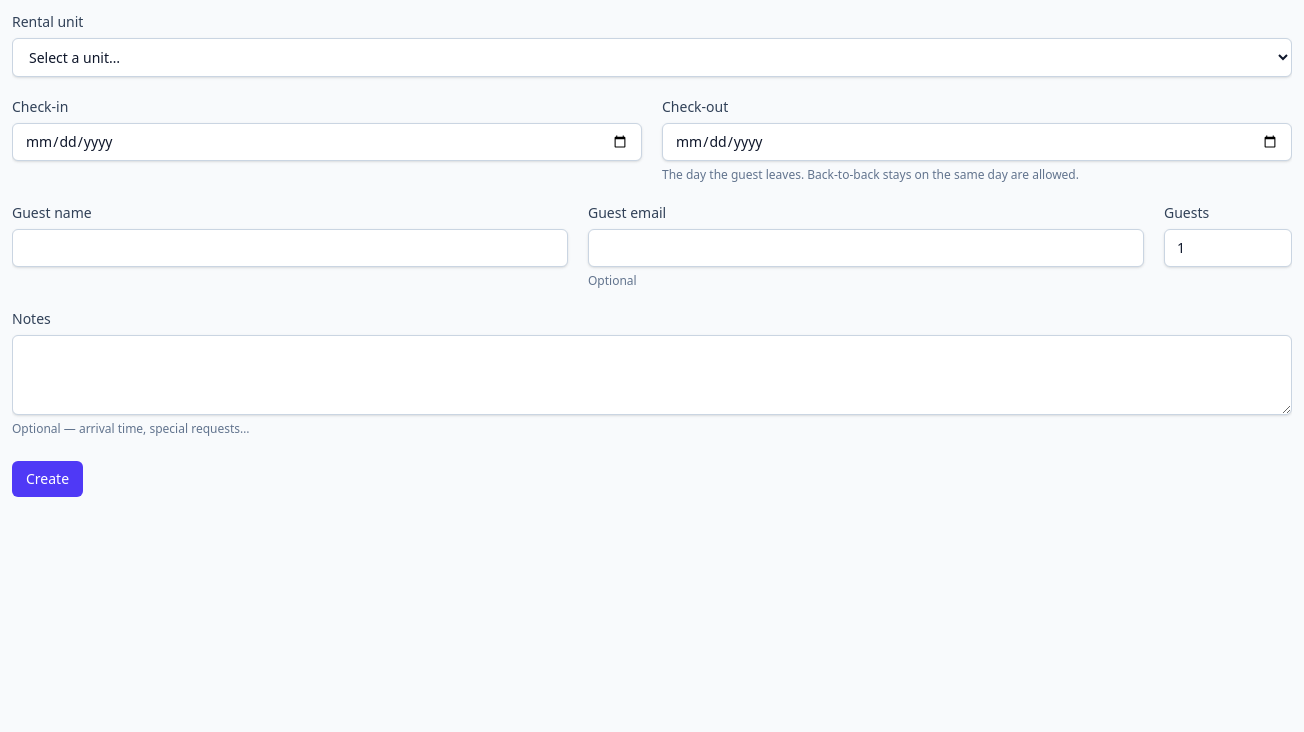
Scenario: ReservationForm › rejects a check-out that is not after check-in
The image size is (1304, 732).
Select "Sunny loft — Stockholm" in the dropdown labelled "Rental unit" at (652, 58), box [12,38,1292,77]
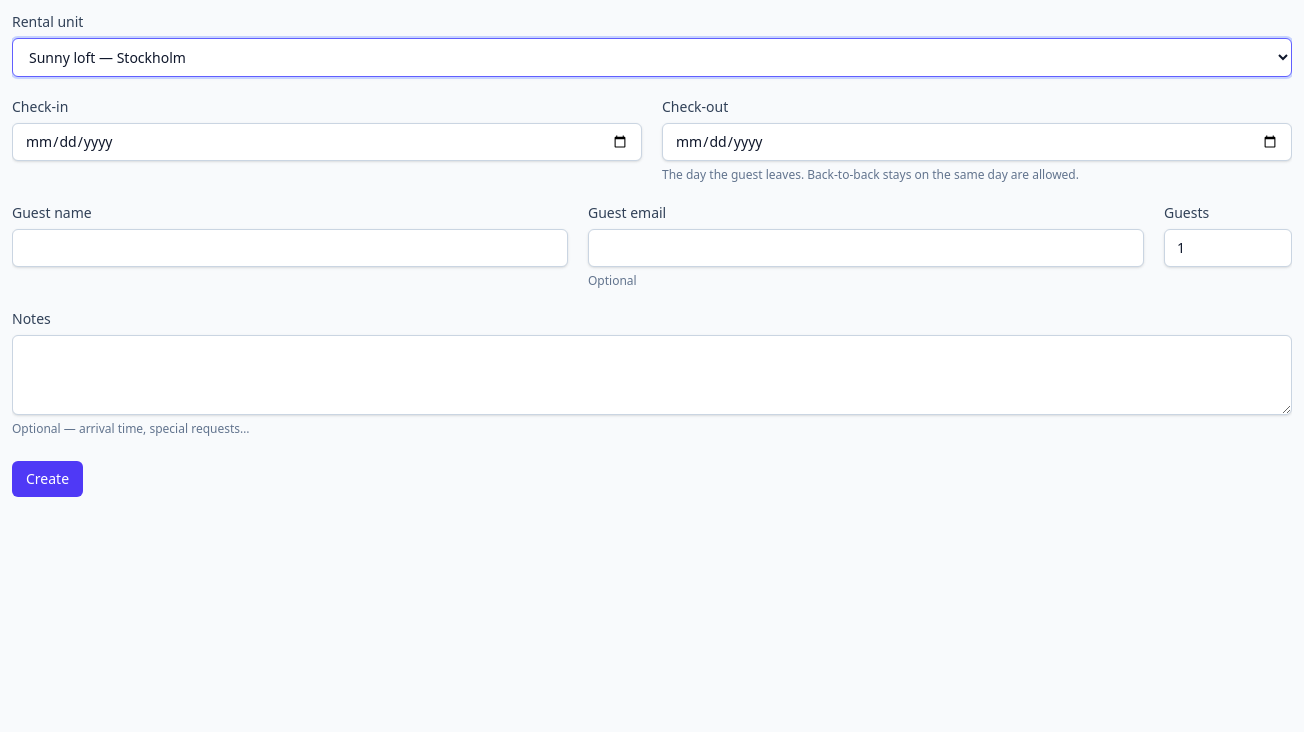
Type "2024-07-01" into the date field labelled "Check-in".
click(327, 142); type("2024-07-01")  # box [12,123,642,161]
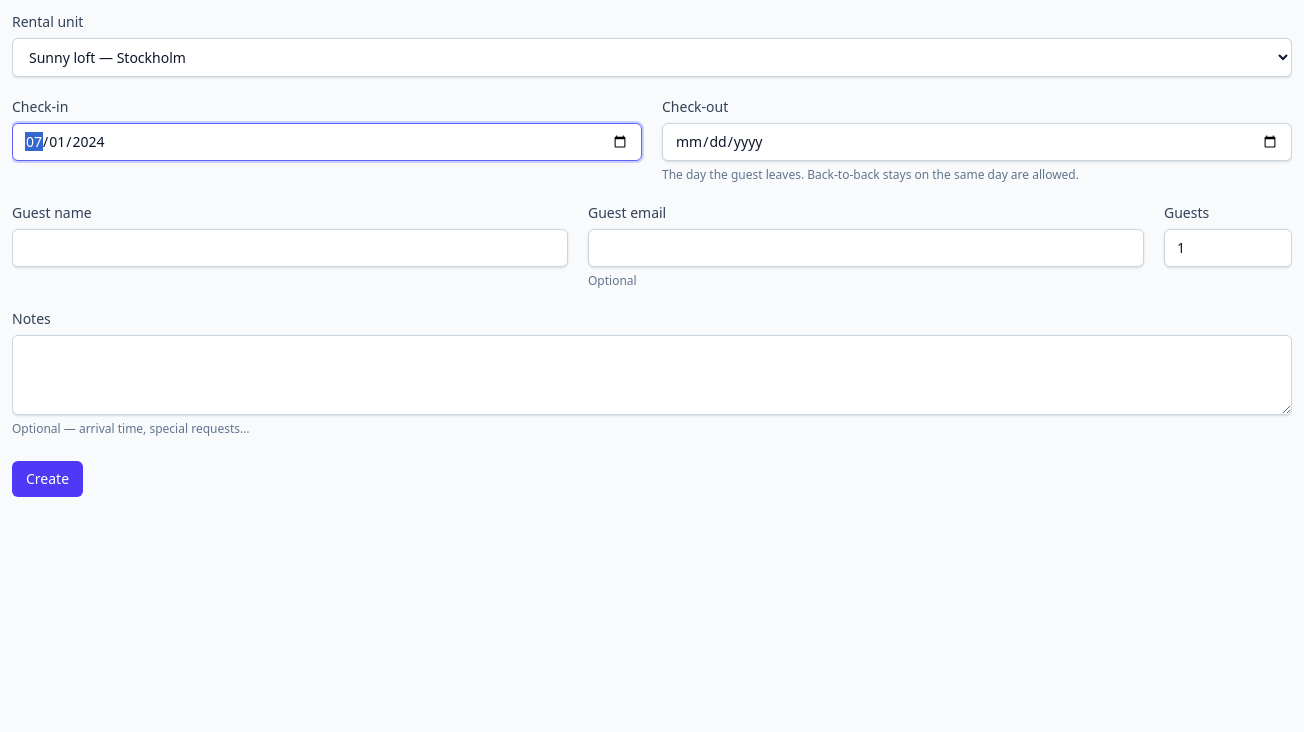
Type "2024-07-05" into the date field labelled "Check-out".
click(977, 142); type("2024-07-05")  # box [662,123,1292,161]
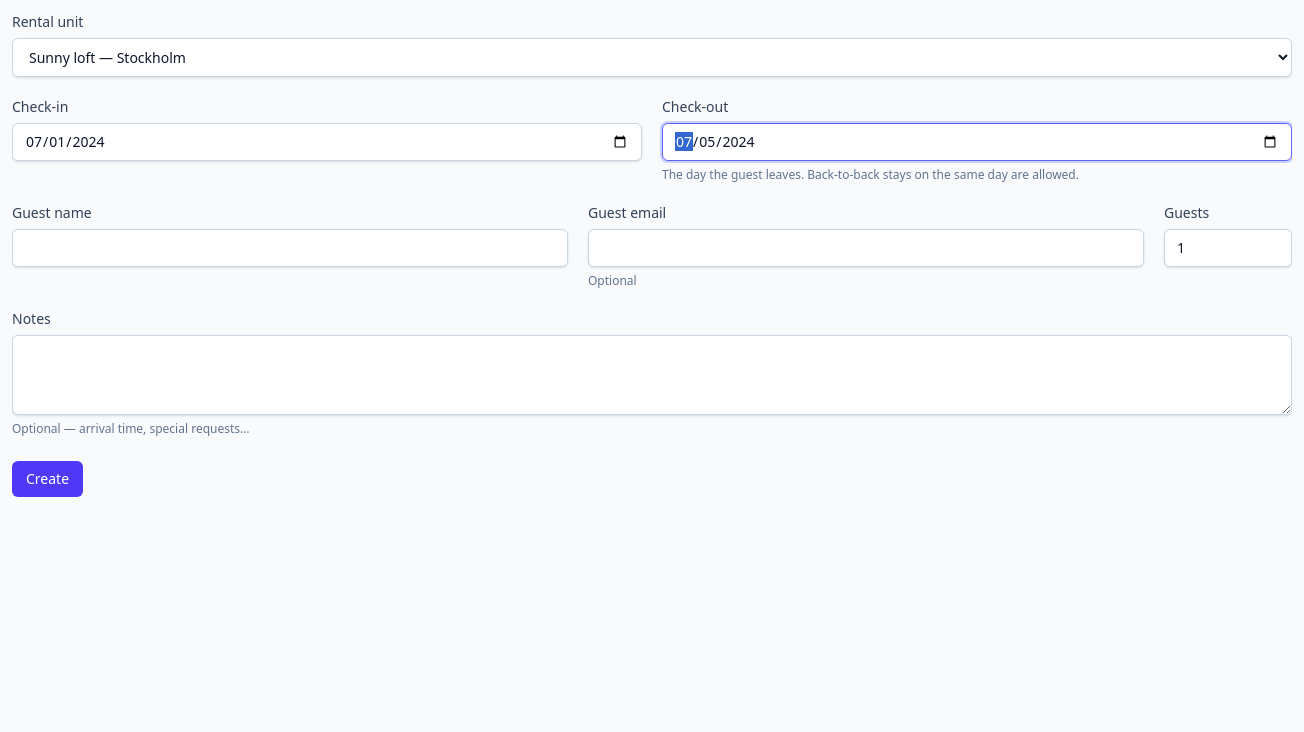
Type "Ada Lovelace" into the field labelled "Guest name".
click(290, 248); type("Ada Lovelace")  # box [12,229,568,267]
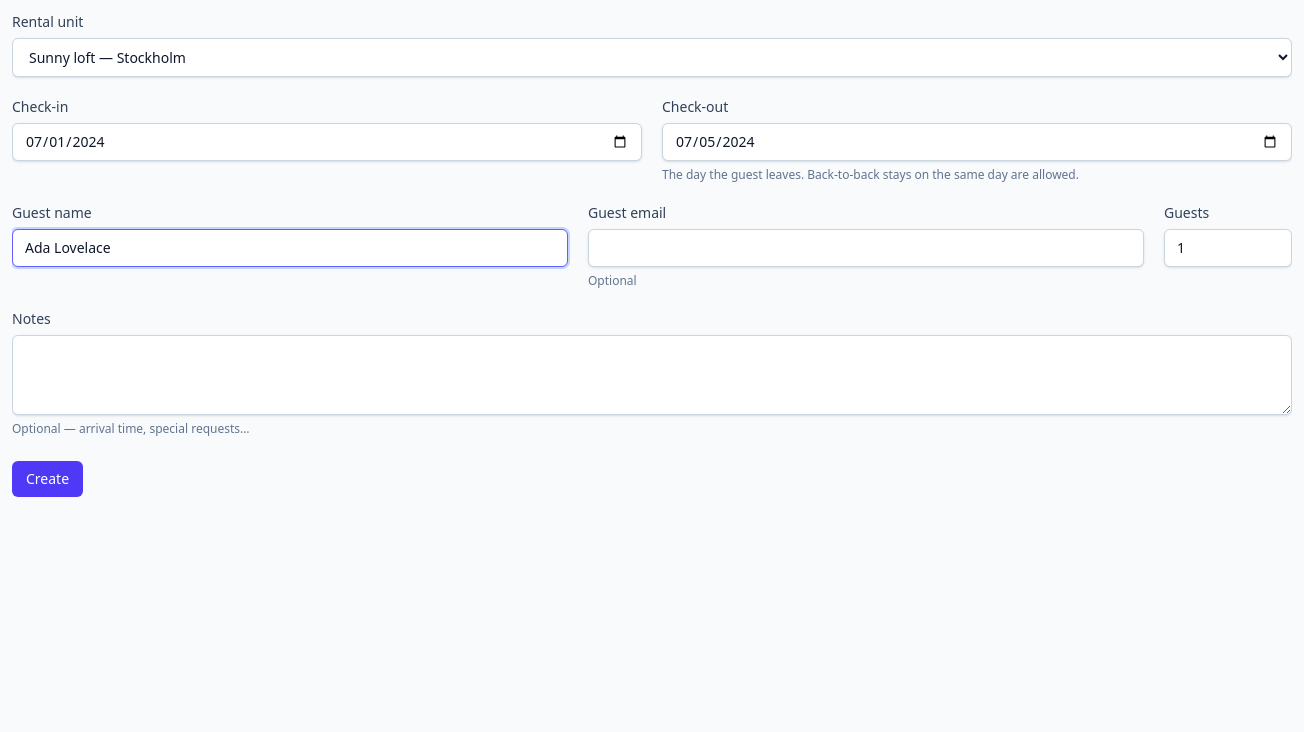
Type "2024-07-01" into the date field labelled "Check-out".
click(977, 142); type("2024-07-01")  # box [662,123,1292,161]
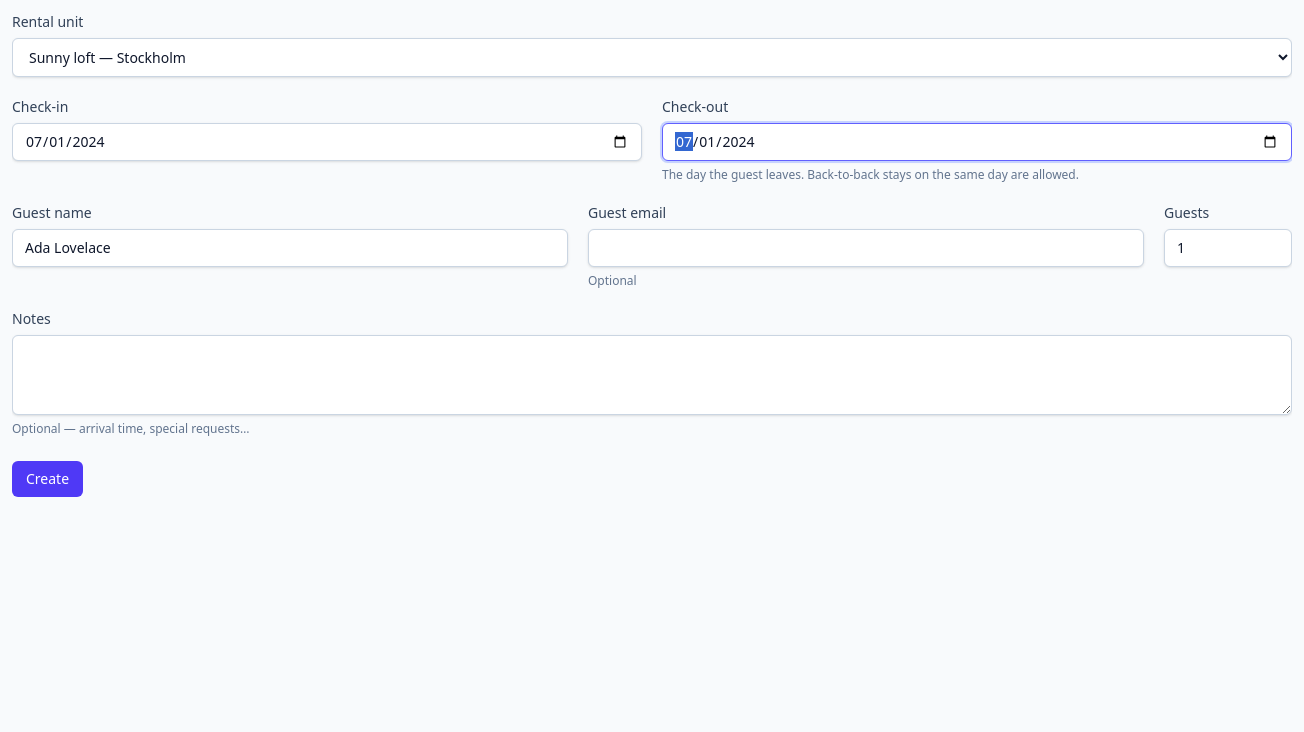
Click the button "Create".
click(48, 479)  # box [12,461,83,497]
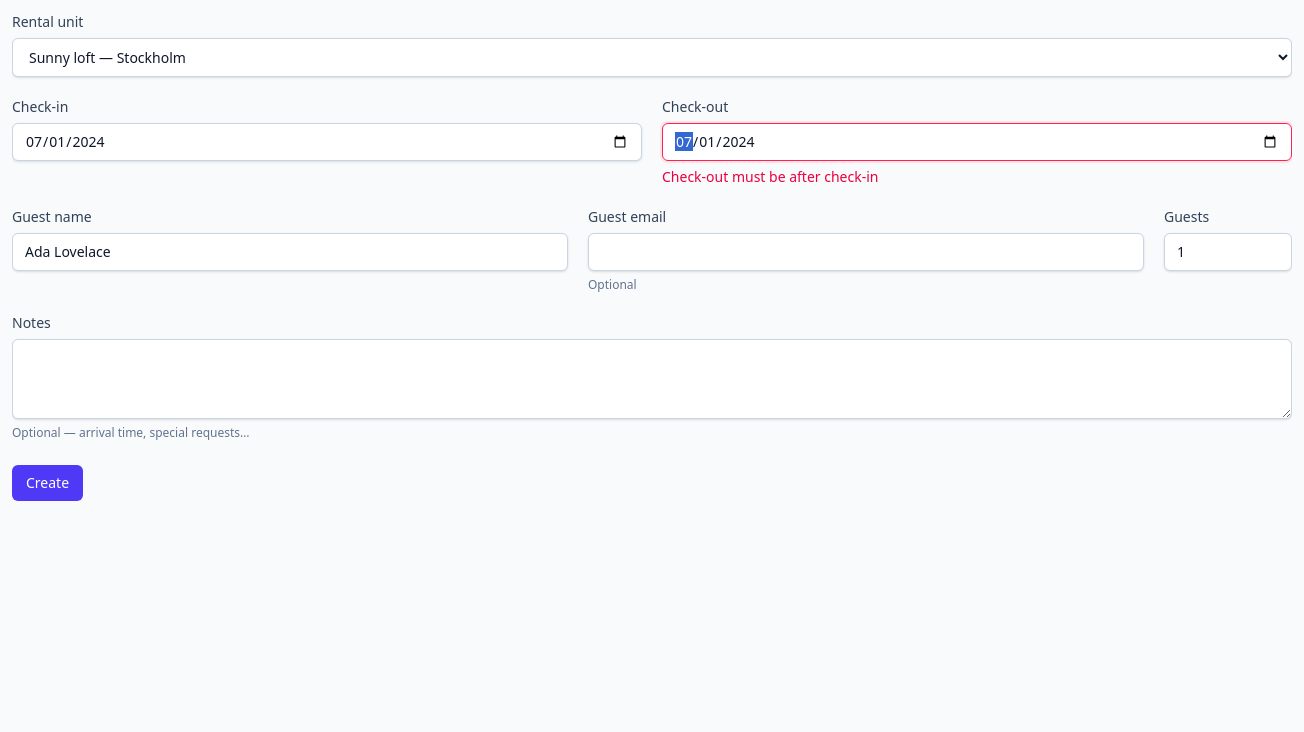
Result: the text "Check-out must be after check-in" is shown at [662,167,878,186]
